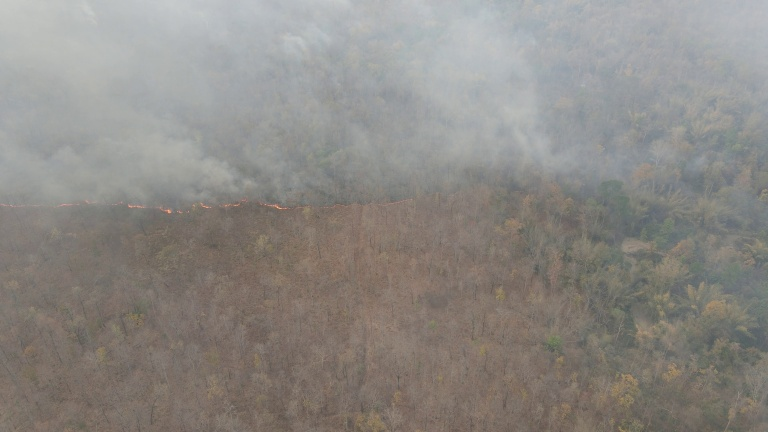fire: (2, 189, 474, 215)
smoke: (2, 1, 483, 203), (486, 1, 763, 237)
